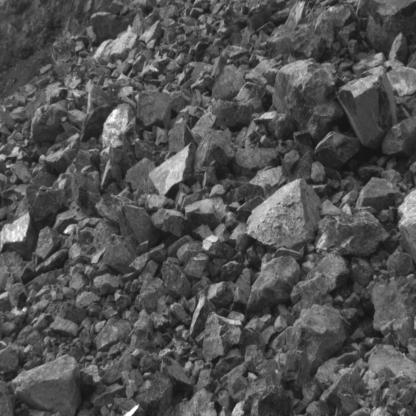stone: (247, 180, 322, 250), (336, 65, 398, 149), (272, 59, 339, 131), (11, 355, 82, 416), (288, 303, 347, 374), (314, 210, 391, 257), (246, 256, 301, 312), (149, 143, 197, 200), (370, 275, 416, 330), (81, 99, 136, 141), (25, 184, 70, 233), (321, 368, 363, 416), (117, 205, 161, 250), (91, 8, 143, 45), (134, 90, 172, 139), (291, 275, 333, 319), (305, 253, 351, 293), (368, 346, 416, 384), (0, 212, 38, 260), (306, 101, 346, 146), (208, 99, 265, 130), (193, 129, 234, 172), (314, 132, 360, 169), (30, 100, 69, 142), (314, 6, 351, 49), (202, 312, 233, 363), (93, 316, 136, 352), (356, 177, 401, 211), (279, 350, 310, 399), (102, 104, 135, 150), (97, 193, 138, 230), (71, 171, 103, 217), (98, 32, 140, 66), (233, 148, 280, 178), (289, 25, 327, 62), (398, 186, 416, 264), (382, 117, 416, 158), (161, 257, 192, 300), (103, 235, 137, 274), (145, 371, 173, 416), (171, 389, 217, 416), (125, 158, 158, 195), (150, 209, 190, 238), (190, 295, 216, 338), (185, 196, 229, 221), (213, 65, 244, 100), (130, 314, 157, 354), (260, 385, 294, 416), (161, 356, 191, 391), (102, 351, 133, 384), (33, 227, 63, 261), (140, 277, 166, 314), (286, 150, 314, 184), (185, 205, 222, 229), (388, 66, 416, 97), (43, 149, 77, 174), (35, 249, 68, 274), (233, 267, 255, 304), (238, 326, 265, 356), (349, 256, 375, 287), (352, 53, 387, 76), (229, 183, 265, 204), (207, 281, 234, 309), (250, 166, 283, 188), (94, 273, 126, 295), (284, 0, 306, 32), (244, 344, 268, 373), (229, 222, 251, 253), (234, 82, 268, 102), (388, 32, 408, 66), (247, 3, 272, 30), (387, 253, 414, 277), (177, 240, 203, 264), (228, 373, 249, 402), (76, 149, 101, 173), (201, 235, 226, 259), (0, 346, 20, 376), (102, 160, 122, 189), (251, 397, 281, 416), (237, 196, 265, 216), (50, 317, 78, 337), (335, 23, 357, 48), (140, 20, 161, 45), (170, 303, 191, 327), (11, 161, 33, 183), (185, 256, 206, 279), (358, 163, 384, 181), (75, 291, 102, 308), (8, 283, 27, 307), (221, 261, 243, 281), (320, 200, 342, 217), (0, 394, 16, 416), (381, 170, 403, 185), (311, 161, 325, 183), (116, 322, 132, 341), (312, 184, 332, 198)
